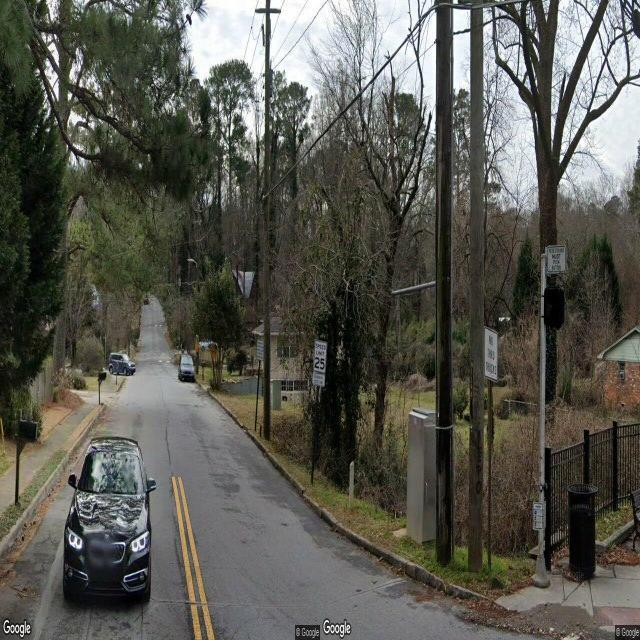seating: (630, 487, 640, 552)
trash_can: (567, 484, 599, 580)
